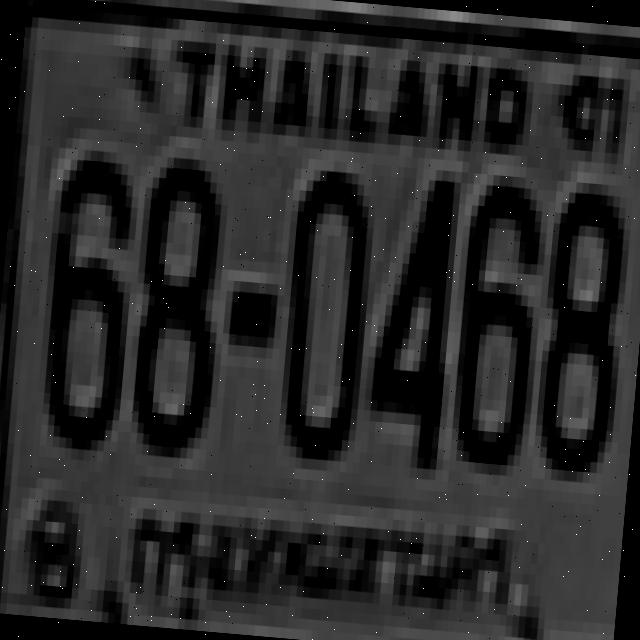0: (274, 158, 376, 452)
4: (363, 165, 458, 458)
6: (34, 147, 136, 441), (446, 172, 541, 466)
8: (123, 144, 226, 448), (532, 180, 627, 473)
Bangkok: (118, 498, 524, 632)
